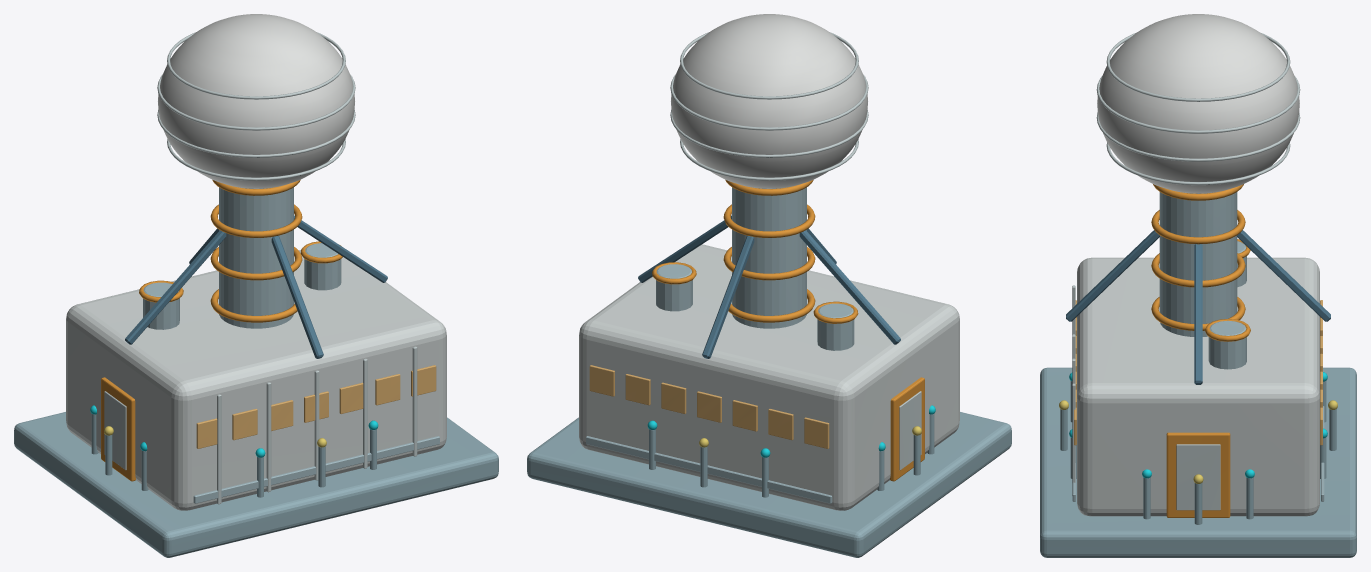
The model's file is runner_day_radar_landmark_v1.glb.
3 views of the same model, side by side, from view 1: azimuth 30°, elevation 25°; view 2: azimuth 150°, elevation 25°; view 3: azimuth 270°, elevation 25° (orthographic). The views are drawn at different scales.
Visible parts, largest first — view 1: runner_day_radar_landmark_v1; view 2: runner_day_radar_landmark_v1; view 3: runner_day_radar_landmark_v1.
Part boxes in pixels (bbox=[...]): runner_day_radar_landmark_v1: bbox=[14, 14, 498, 557]; runner_day_radar_landmark_v1: bbox=[527, 14, 1011, 557]; runner_day_radar_landmark_v1: bbox=[1040, 14, 1356, 557].
Size of the model in its own units: 10.8 by 13.51 by 8.6.
